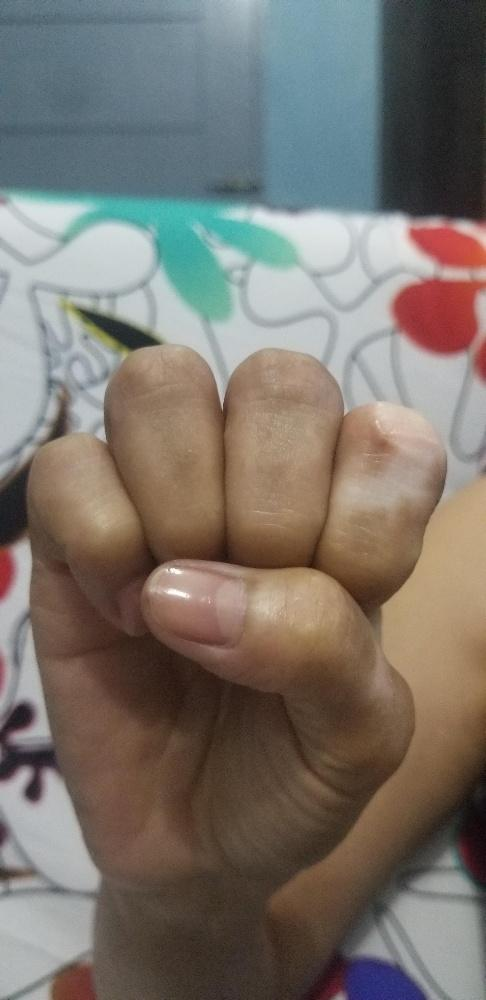s: (18, 340, 451, 893)
